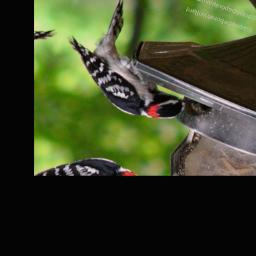Woodpecker: (47, 0, 222, 134)
